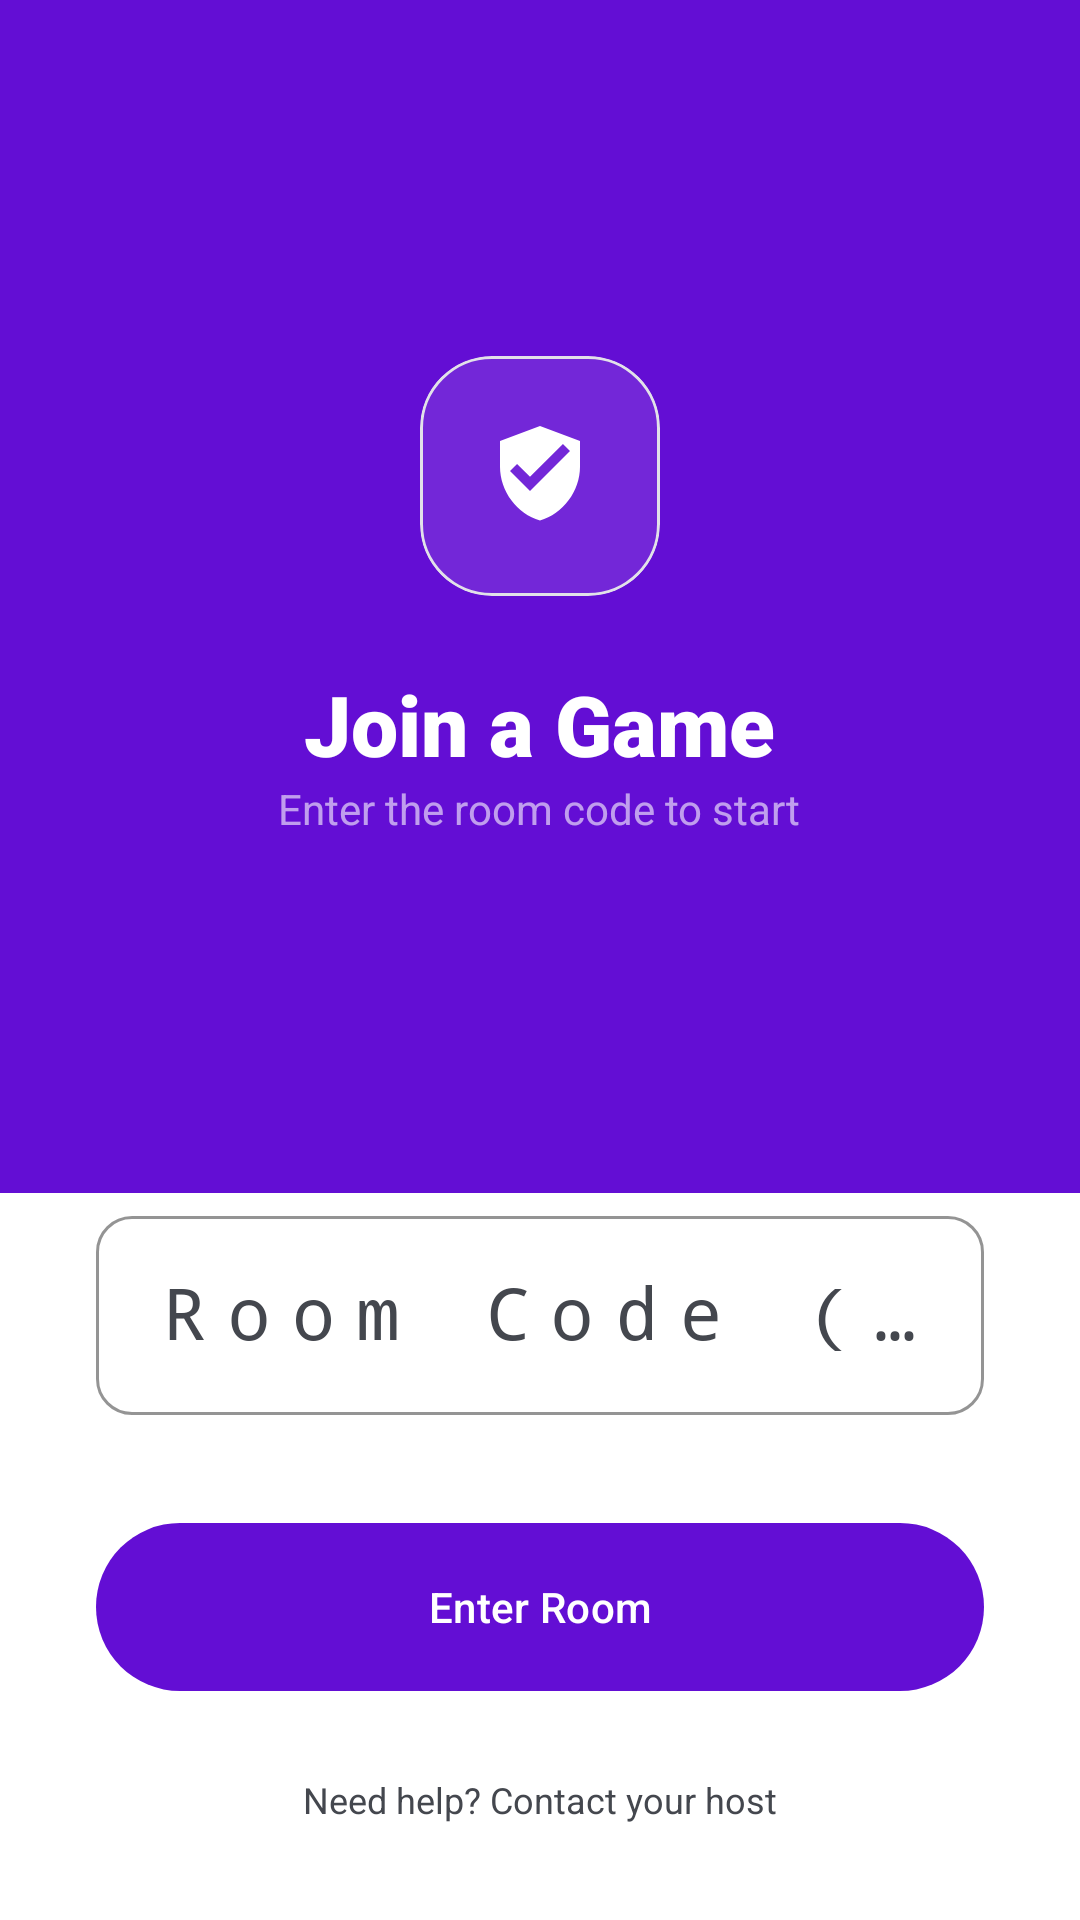

Named icons in this screenshot (1080px×1920px) and their bounding boxes, [x1,y1,x2,y2]:
verified: [420,356,660,596]
